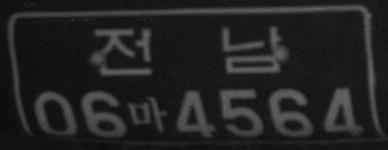0: (32, 89, 79, 137)
4: (323, 86, 364, 137), (175, 88, 215, 138)
5: (218, 88, 264, 138)
6: (81, 88, 128, 139), (268, 87, 313, 139)
마: (129, 95, 167, 133)
전남_D: (93, 23, 283, 77)
